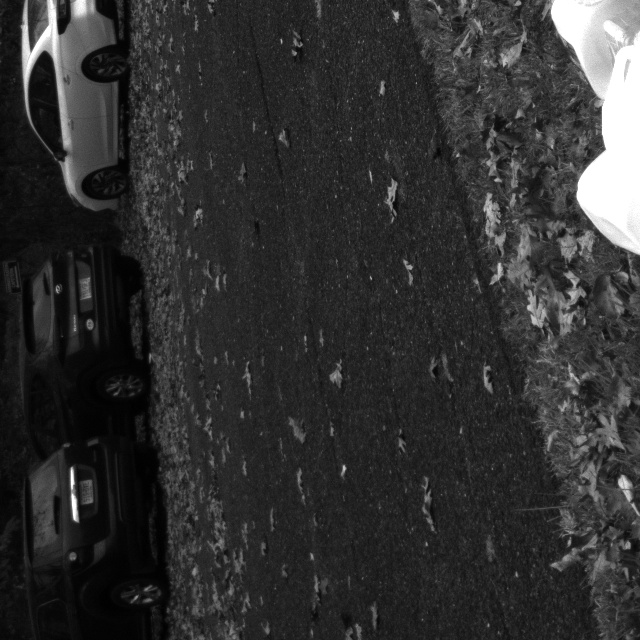can: (549, 0, 640, 107), (573, 124, 640, 258)
